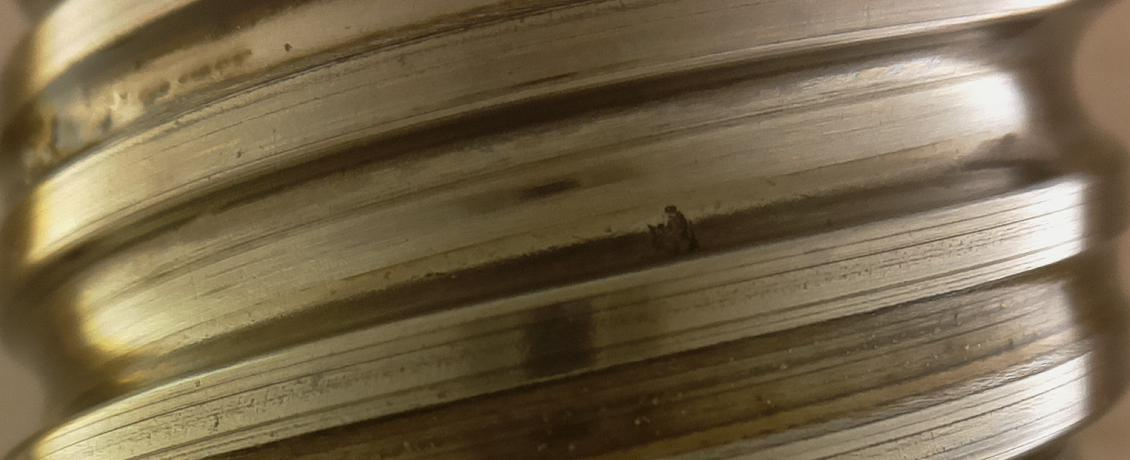pitting: (647, 205, 700, 261)
